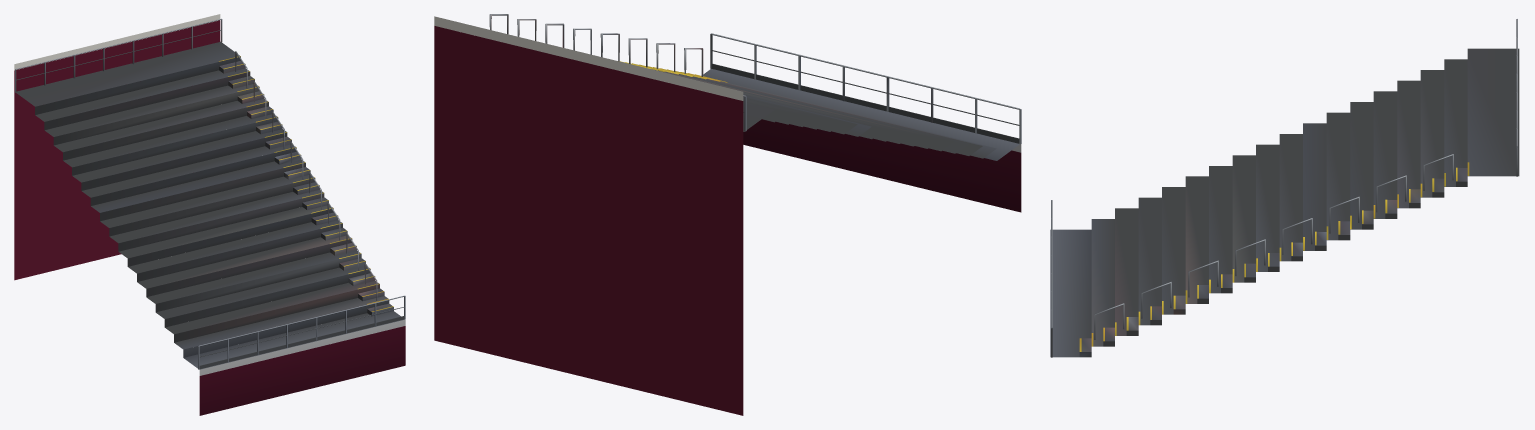
File: stand_T2_kit_0.glb
3 views of the same model, side by side, from view 1: azimuth 30°, elevation 25°; view 2: azimuth 150°, elevation 25°; view 3: azimuth 270°, elevation 25° (orthographic). The views are drawn at different scales.
Visible parts, largest first — view 1: kit_0; view 2: kit_0; view 3: kit_0.
Part boxes in pixels (x1=…): kit_0: x1=14, y1=14, x2=405, y2=415; kit_0: x1=434, y1=14, x2=1021, y2=415; kit_0: x1=1050, y1=19, x2=1519, y2=357.
Bounding box in the file's own units: 10.32 × 10.3 × 16.
